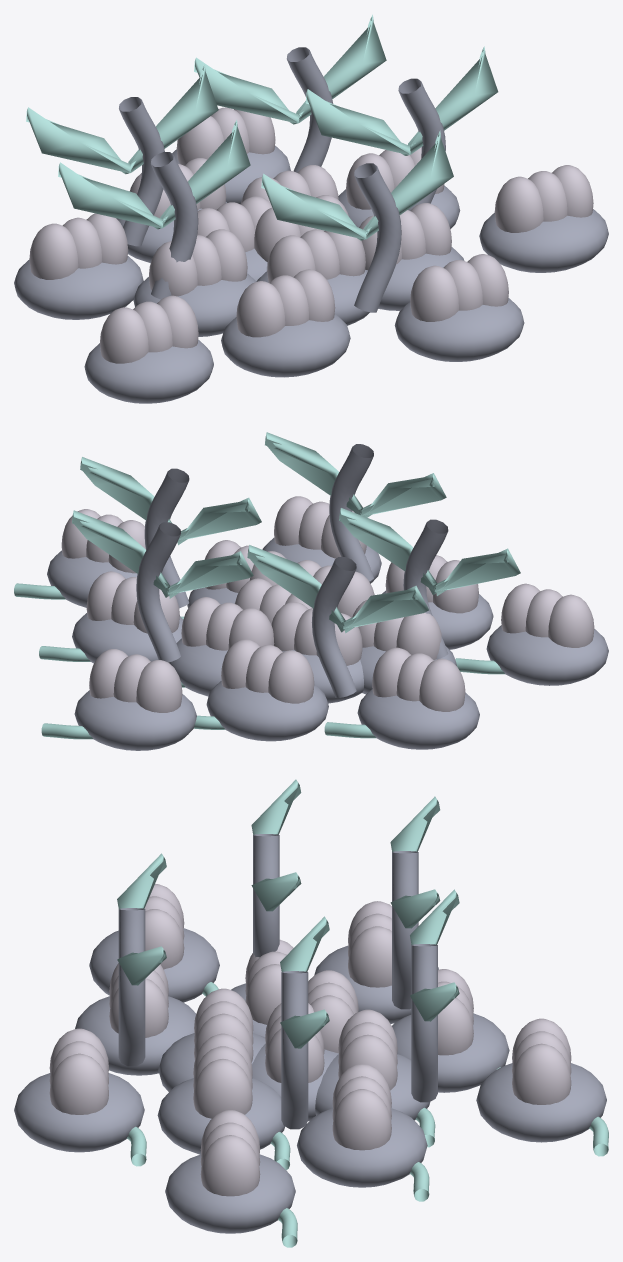
The model's file is bio_acid_mat_22_near.glb.
3 views of the same model, one above another, from view 1: azimuth 30°, elevation 25°; view 2: azimuth 150°, elevation 25°; view 3: azimuth 270°, elevation 25° (orthographic). The views are drawn at different scales.
Visible parts, largest first — view 1: Microbial cushion.007, Microbial cushion.012, Microbial cushion.010, Microbial cushion.013, Microbial cushion.009, Secondary fan lobe.002, Secondary fan lobe.008, Secondary fan lobe.004, Secondary fan lobe, Secondary fan lobe.006, Reaction vesicle.036, Reaction vesicle.039 (+23 smaller); view 2: Microbial cushion.006, Microbial cushion.011, Microbial cushion.009, Microbial cushion.012, Reaction vesicle.033, Reaction vesicle.018, Reaction vesicle.036, Reaction vesicle.027, Secondary fan lobe.002, Secondary fan lobe.006, Secondary fan lobe.008, Secondary fan lobe.004 (+29 smaller); view 3: Microbial cushion.013, Microbial cushion.008, Microbial cushion.010, Microbial cushion.011, Reaction vesicle.033, Reaction vesicle.024, Reaction vesicle.039, Reaction vesicle.030, Reaction vesicle.015, Microbial cushion.005, Microbial cushion.006, Branching support (+24 smaller).
Part boxes in pixels (x1=…): Microbial cushion.007: x1=221, y1=313, x2=350, y2=377; Microbial cushion.012: x1=84, y1=339, x2=213, y2=403; Microbial cushion.010: x1=394, y1=298, x2=524, y2=361; Microbial cushion.013: x1=479, y1=209, x2=608, y2=272; Microbial cushion.009: x1=14, y1=256, x2=143, y2=319; Secondary fan lobe.002: x1=26, y1=64, x2=218, y2=174; Secondary fan lobe.008: x1=58, y1=119, x2=250, y2=229; Secondary fan lobe.004: x1=261, y1=130, x2=453, y2=240; Secondary fan lobe: x1=305, y1=46, x2=498, y2=155; Secondary fan lobe.006: x1=194, y1=14, x2=386, y2=124; Reaction vesicle.036: x1=100, y1=295, x2=198, y2=363; Reaction vesicle.039: x1=494, y1=165, x2=593, y2=232; Microbial cushion.006: x1=206, y1=681, x2=328, y2=741; Microbial cushion.011: x1=74, y1=690, x2=196, y2=750; Microbial cushion.009: x1=357, y1=689, x2=479, y2=749; Microbial cushion.012: x1=486, y1=625, x2=608, y2=685; Reaction vesicle.033: x1=89, y1=649, x2=182, y2=712; Reaction vesicle.018: x1=221, y1=639, x2=314, y2=703; Reaction vesicle.036: x1=501, y1=583, x2=594, y2=647; Reaction vesicle.027: x1=372, y1=647, x2=465, y2=711; Secondary fan lobe.002: x1=247, y1=545, x2=428, y2=633; Secondary fan lobe.006: x1=72, y1=510, x2=253, y2=598; Secondary fan lobe.008: x1=339, y1=508, x2=520, y2=595; Secondary fan lobe.004: x1=265, y1=432, x2=446, y2=517; Microbial cushion.013: x1=165, y1=1154, x2=295, y2=1233; Microbial cushion.008: x1=297, y1=1108, x2=427, y2=1187; Microbial cushion.010: x1=14, y1=1073, x2=144, y2=1152; Microbial cushion.011: x1=476, y1=1063, x2=606, y2=1142; Reaction vesicle.033: x1=512, y1=1018, x2=571, y2=1104; Reaction vesicle.024: x1=332, y1=1064, x2=391, y2=1150; Reaction vesicle.039: x1=200, y1=1110, x2=260, y2=1196; Reaction vesicle.030: x1=49, y1=1028, x2=108, y2=1114; Reaction vesicle.015: x1=193, y1=1033, x2=252, y2=1118; Microbial cushion.005: x1=157, y1=1078, x2=284, y2=1154; Microbial cushion.006: x1=392, y1=1013, x2=509, y2=1092; Branching support: x1=281, y1=971, x2=308, y2=1129.
Bounding box in the file's own units: 2.33 × 0.755 × 2.
